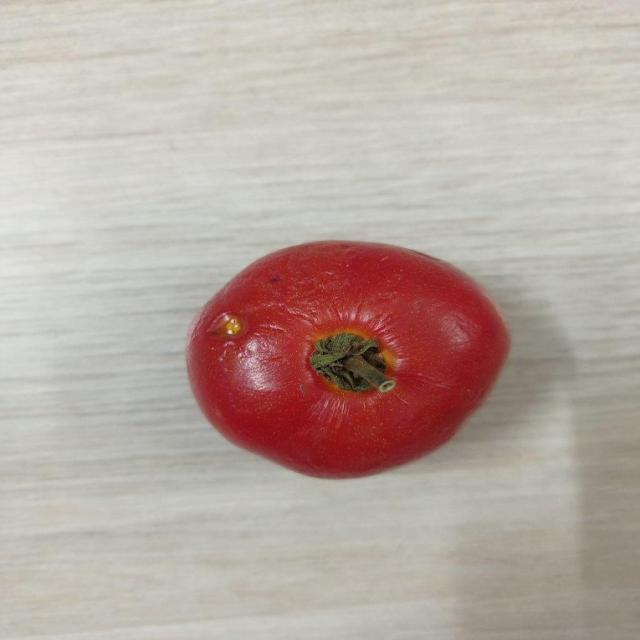Tomato: (184, 238, 519, 482)
